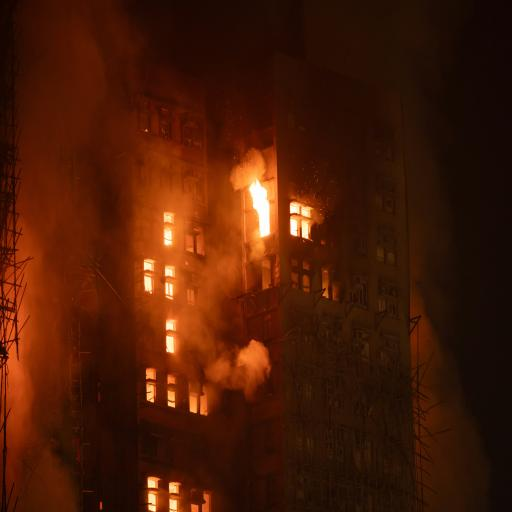buildingfire: (0, 0, 436, 512), (224, 139, 318, 419)
smoke: (18, 12, 142, 491)
